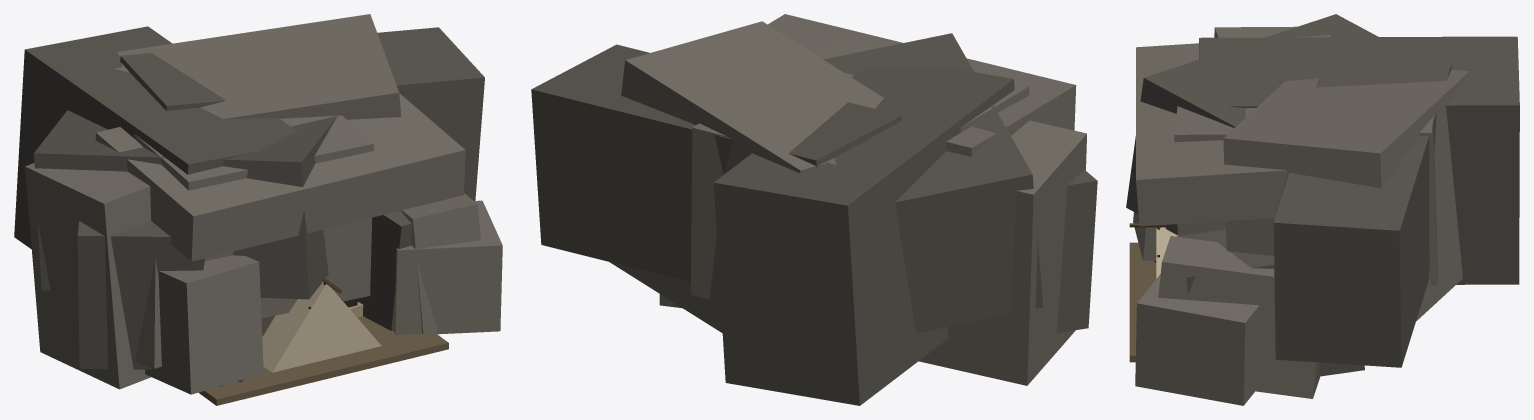
The model's file is C_CaveMouthTent.glb.
3 views of the same model, side by side, from view 1: azimuth 30°, elevation 25°; view 2: azimuth 150°, elevation 25°; view 3: azimuth 270°, elevation 25° (orthographic). The views are drawn at different scales.
Visible parts, largest first — view 1: C_CaveMouthTent_Structure, C_CaveMouthTent_Foundation; view 2: C_CaveMouthTent_Structure; view 3: C_CaveMouthTent_Structure, C_CaveMouthTent_Foundation.
Boxes of the visible parts, x1,y1,x2,y2 form: C_CaveMouthTent_Structure: (14,14,502,394); C_CaveMouthTent_Foundation: (199,316,448,405); C_CaveMouthTent_Structure: (531,14,1097,405); C_CaveMouthTent_Structure: (1126,14,1519,405); C_CaveMouthTent_Foundation: (1129,242,1156,362).
Bounding box in the file's own units: 11.5 × 5.97 × 8.82.
